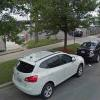Car: (6, 44, 87, 99)
